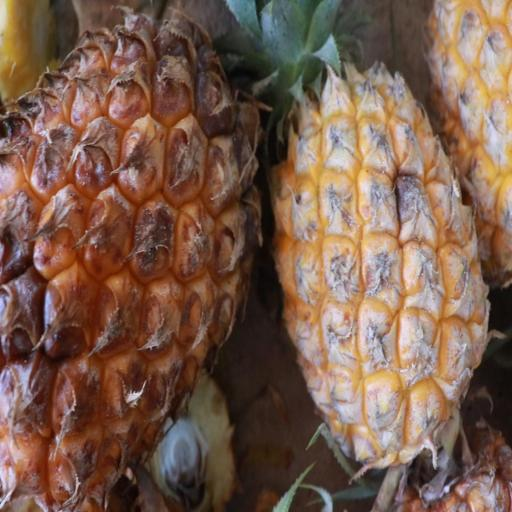Pineapple - v8 v1: (0, 0, 269, 512), (270, 0, 492, 478)
